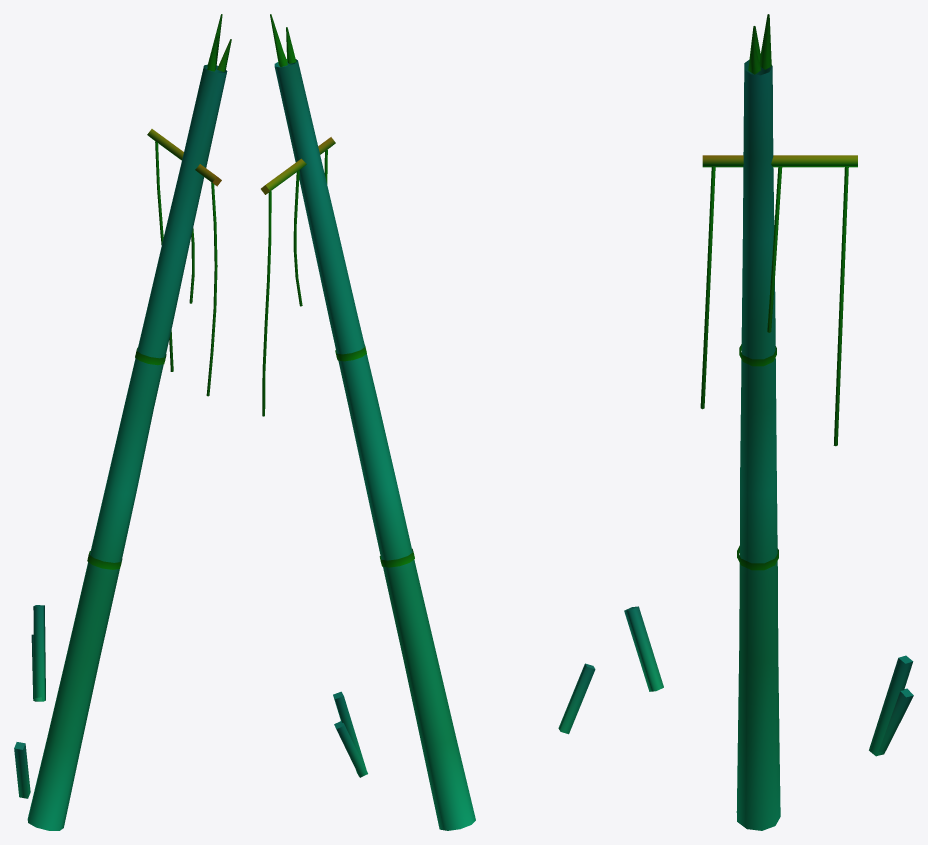
Rendered from wreck_mast_standing.glb.
3 renders of one model, left to right at view 1: azimuth 30°, elevation 25°; view 2: azimuth 150°, elevation 25°; view 3: azimuth 270°, elevation 25°, orthographic. The views are drawn at different scales.
Parts seen in each view (by area): view 1: wreck_mast_standing; view 2: wreck_mast_standing; view 3: wreck_mast_standing.
Part boxes in pixels (x1,y1,x2,y2): wreck_mast_standing: (14, 14, 231, 830); wreck_mast_standing: (261, 14, 595, 830); wreck_mast_standing: (624, 14, 913, 830).
Size of what is drawn, in the model's own units: 3.32 by 9.07 by 2.61.
